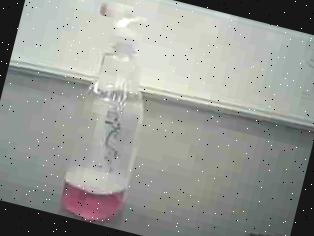hazard: (39, 0, 191, 234)
